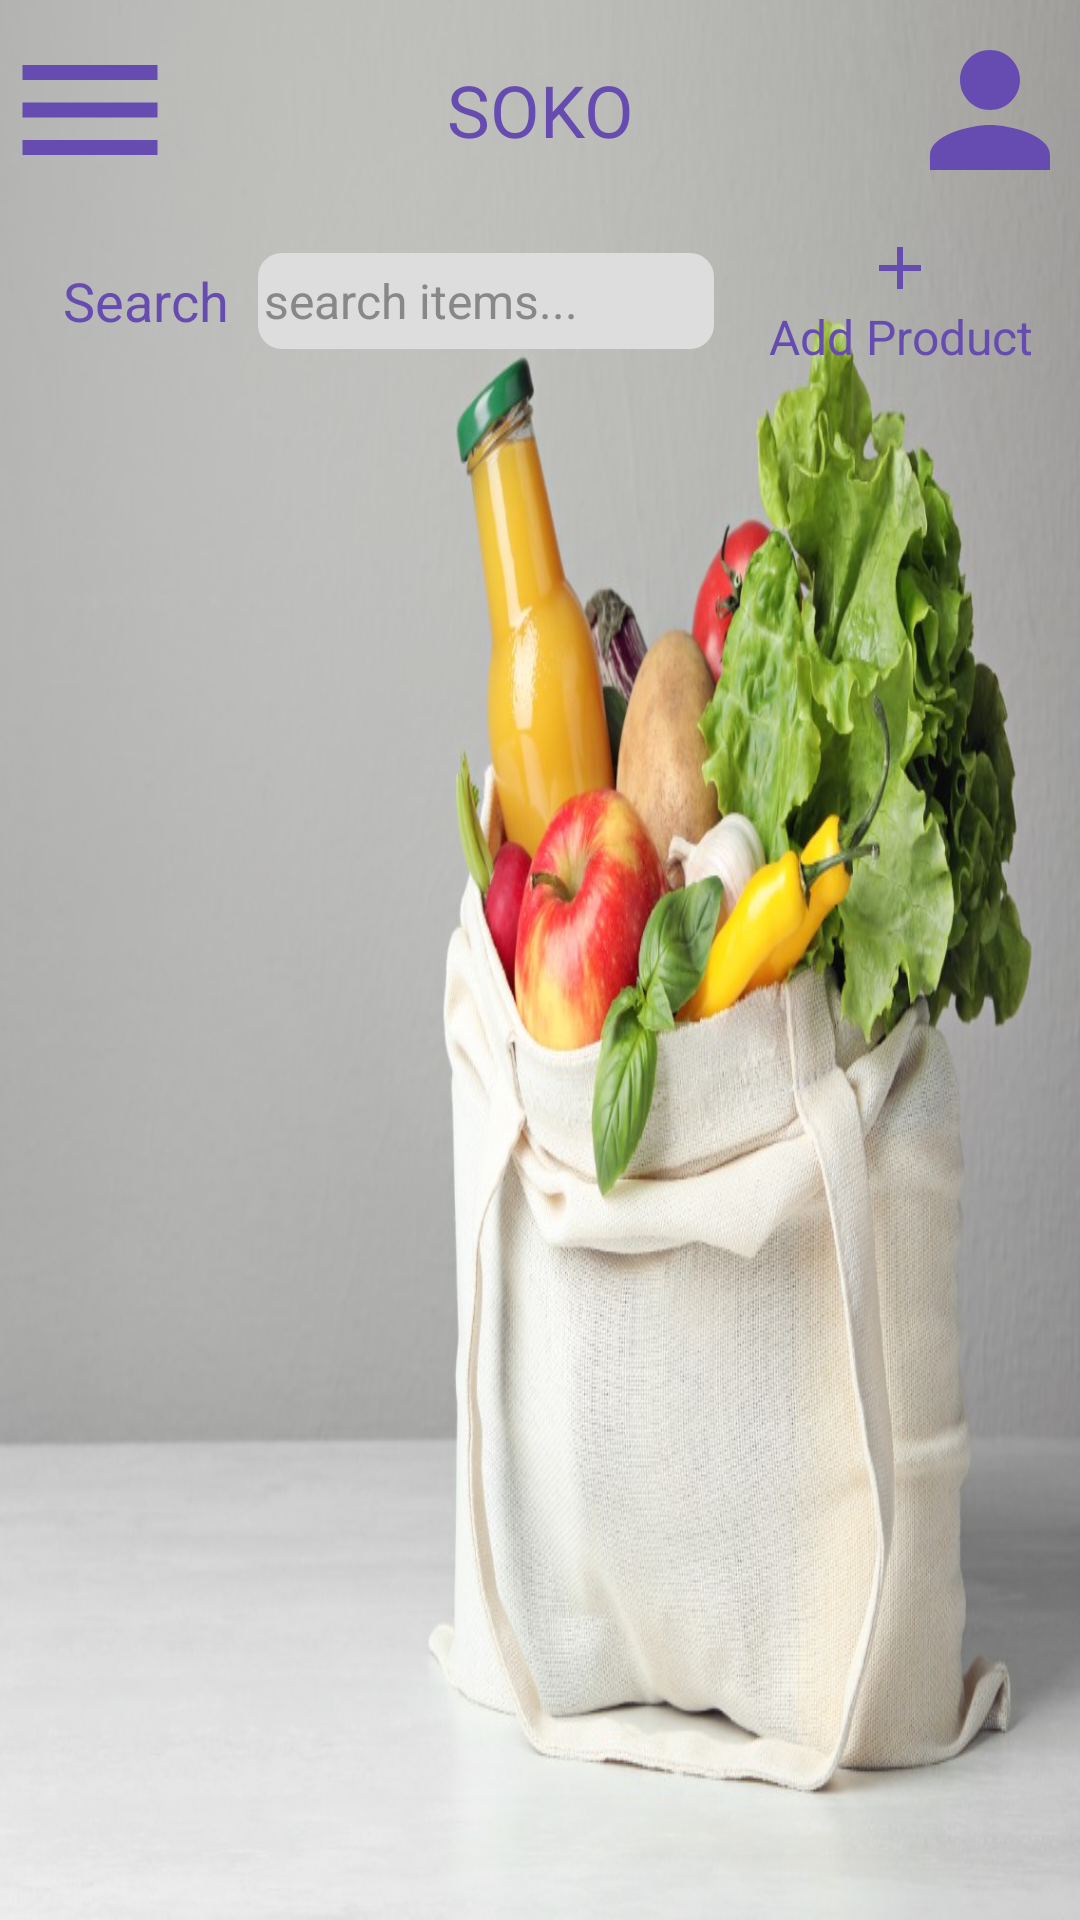

Where icons sit on this 1080x1920 app screen, as (x1, y1, x2, y2):
add item: (879, 247, 921, 289)
menu: (22, 65, 158, 155)
profile: (930, 50, 1050, 170)
